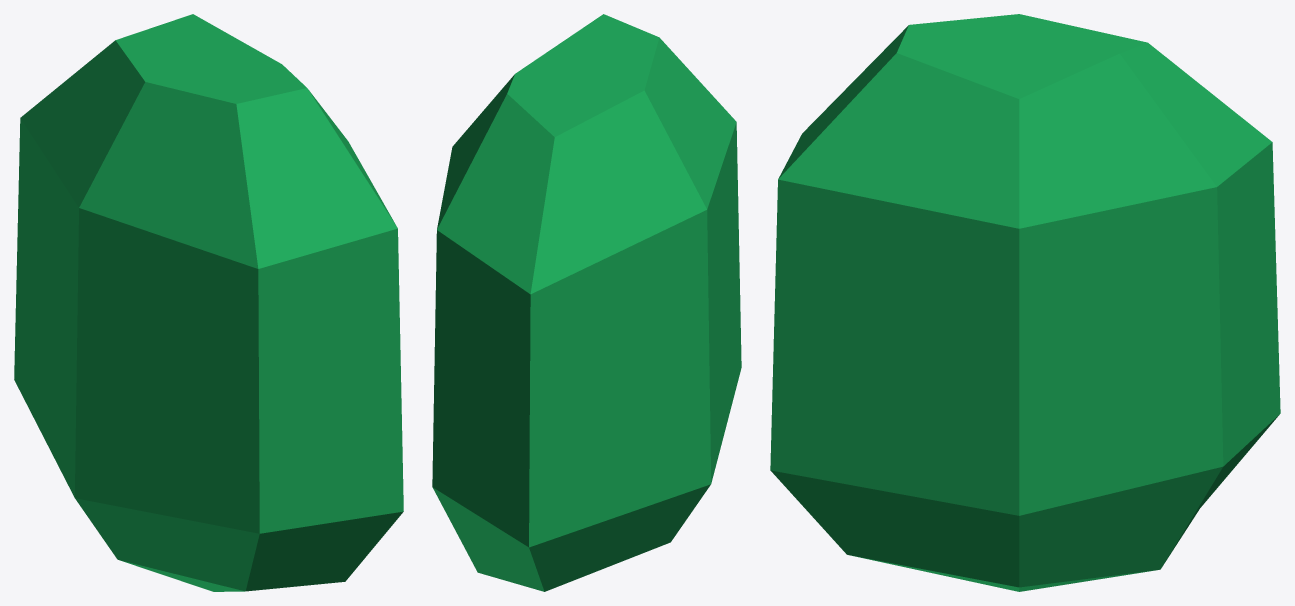
The model's file is SM_Emerald_Flawed.fbx.
3 views of the same model, side by side, from view 1: azimuth 30°, elevation 25°; view 2: azimuth 150°, elevation 25°; view 3: azimuth 270°, elevation 25° (orthographic). The views are drawn at different scales.
Visible parts, largest first — view 1: SM_Emerald_Flawed; view 2: SM_Emerald_Flawed; view 3: SM_Emerald_Flawed.
Boxes of the visible parts, box(x1,y1,x2,y2) form: SM_Emerald_Flawed: box(14, 14, 403, 591); SM_Emerald_Flawed: box(432, 14, 741, 591); SM_Emerald_Flawed: box(770, 14, 1280, 591).
Bounding box in the file's own units: 9.36 × 14.42 × 17.35.
